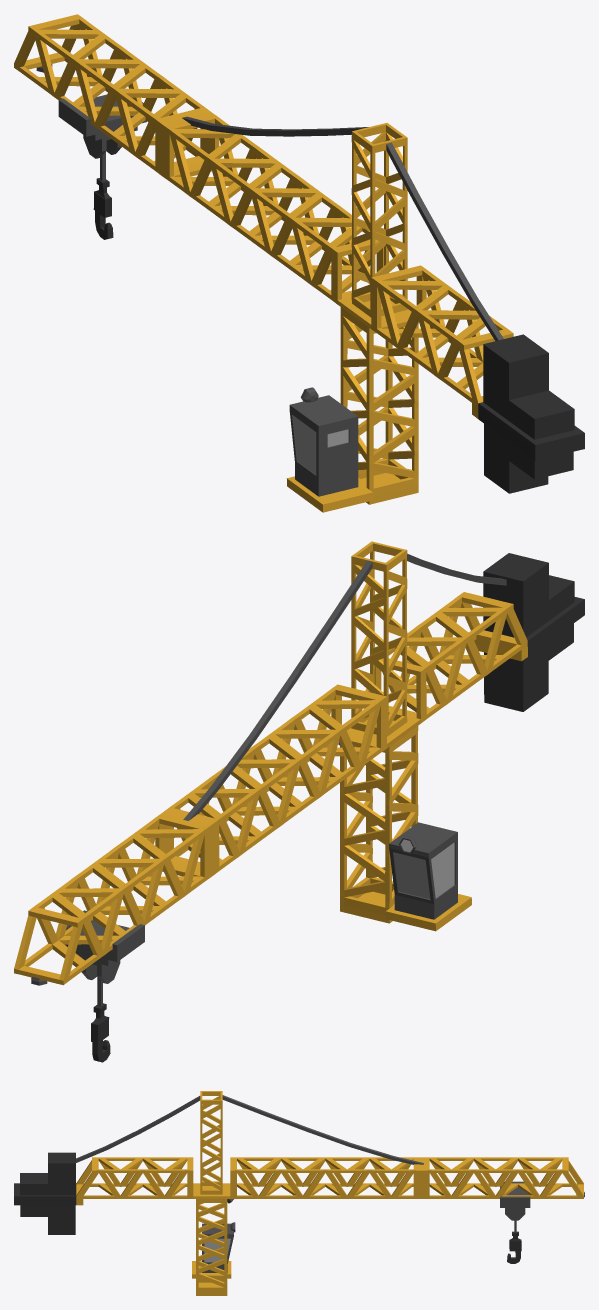
3 views of the same model, one above another, from view 1: azimuth 30°, elevation 25°; view 2: azimuth 150°, elevation 25°; view 3: azimuth 270°, elevation 25° (orthographic). The views are drawn at different scales.
Parts seen in each view (by area): view 1: E-4, E-6, E-7; view 2: E-4, E-6, E-7; view 3: E-4, E-6, E-7.
Boxes of the visible parts, x1,y1,x2,y2 form: E-4: [14, 14, 584, 512]; E-6: [58, 94, 146, 158]; E-7: [93, 178, 113, 239]; E-4: [14, 541, 584, 985]; E-6: [65, 910, 144, 983]; E-7: [91, 1003, 110, 1062]; E-4: [14, 1091, 584, 1295]; E-6: [500, 1181, 530, 1220]; E-7: [507, 1231, 521, 1263].
Bounding box in the file's own units: 905 × 2895 × 7742.
